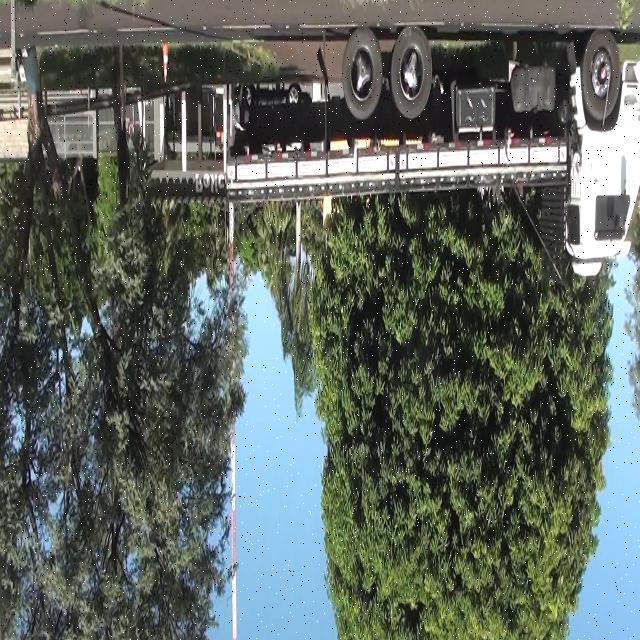-axle: (392, 22, 432, 121), (343, 26, 384, 120), (582, 28, 622, 124)
